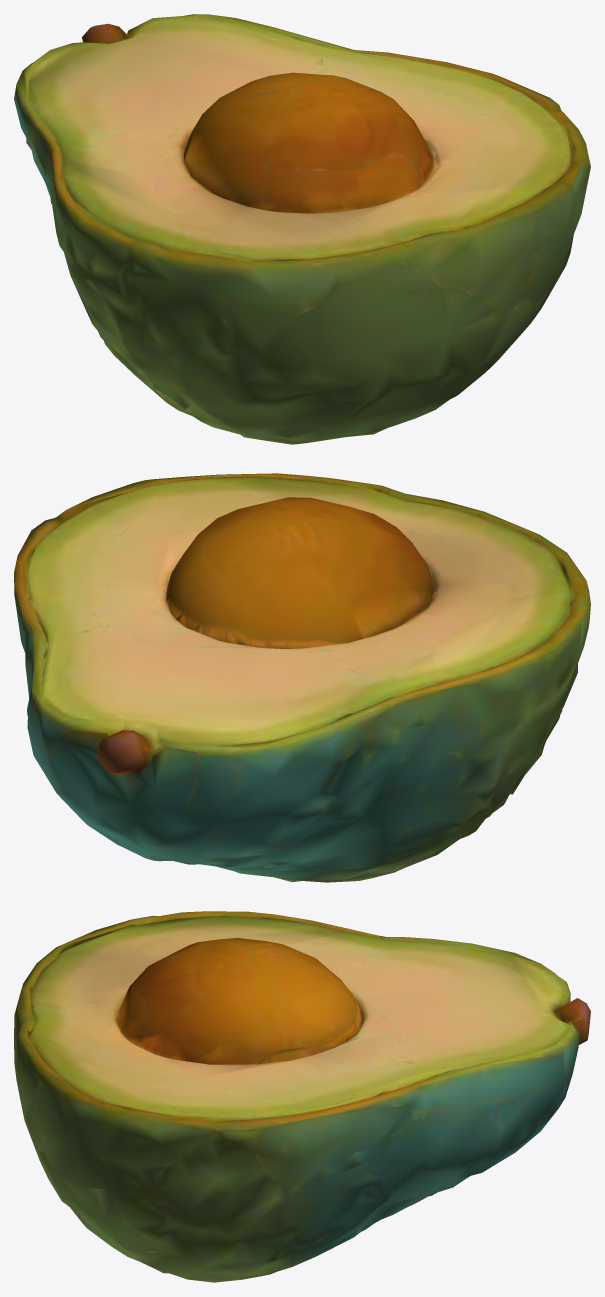
3 renders of one model, top to bottom at view 1: azimuth 30°, elevation 25°; view 2: azimuth 150°, elevation 25°; view 3: azimuth 270°, elevation 25°, orthographic. The views are drawn at different scales.
Visible parts, largest first — view 1: material; view 2: material; view 3: material.
Part boxes in pixels (box(x1,y1,x2,y2)): material: box(14, 14, 590, 444); material: box(14, 473, 590, 882); material: box(14, 911, 590, 1282).
Bounding box in the file's own units: 0.8968 × 0.5853 × 1.
1 material, 1 textured.
